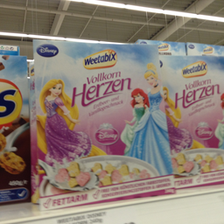cereal: (32, 39, 174, 209), (155, 55, 224, 189)
